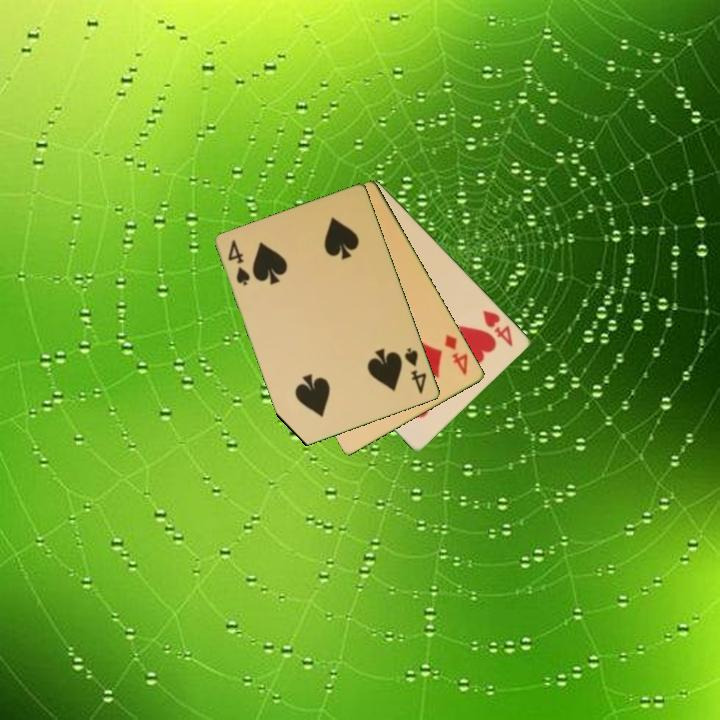4d: (441, 331, 471, 378)
4h: (479, 306, 517, 350)
4s: (401, 344, 430, 397), (224, 237, 253, 289)
